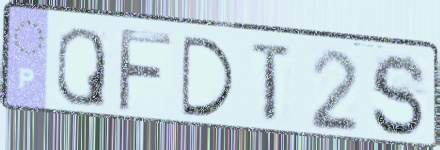2: (309, 45, 361, 133)
D: (179, 33, 238, 120)
F: (114, 25, 176, 116)
Q: (53, 24, 109, 110)
S: (369, 51, 430, 140)
T: (248, 39, 296, 127)
